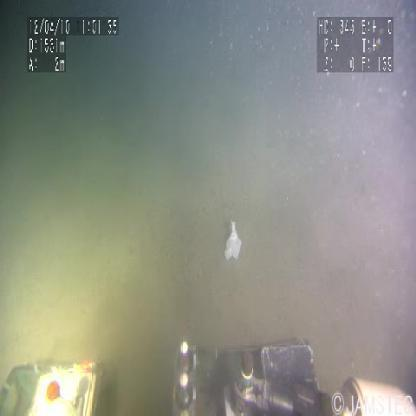Rác: (223, 218, 244, 264)
